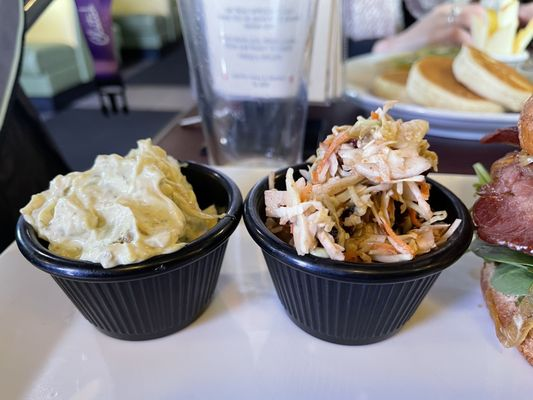soup: (470, 89, 533, 371)
sushi: (243, 116, 474, 346), (15, 146, 244, 342)
